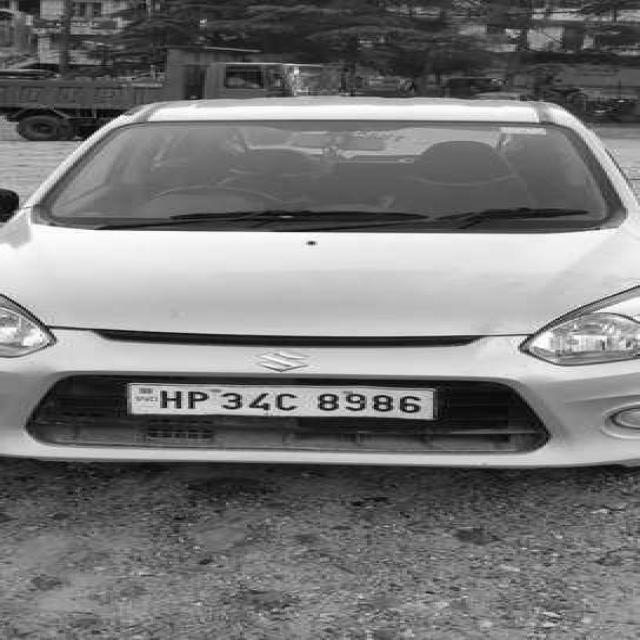car: (2, 98, 640, 484)
license-plate: (134, 384, 440, 423)
